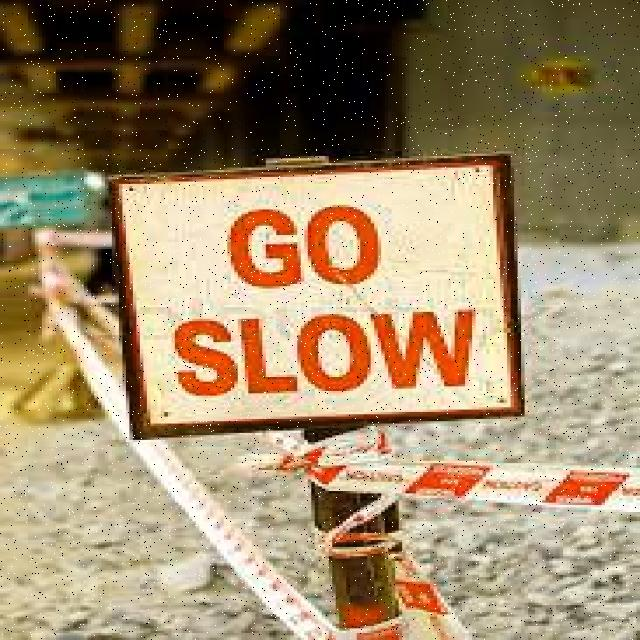go_slow: (110, 160, 519, 426)
